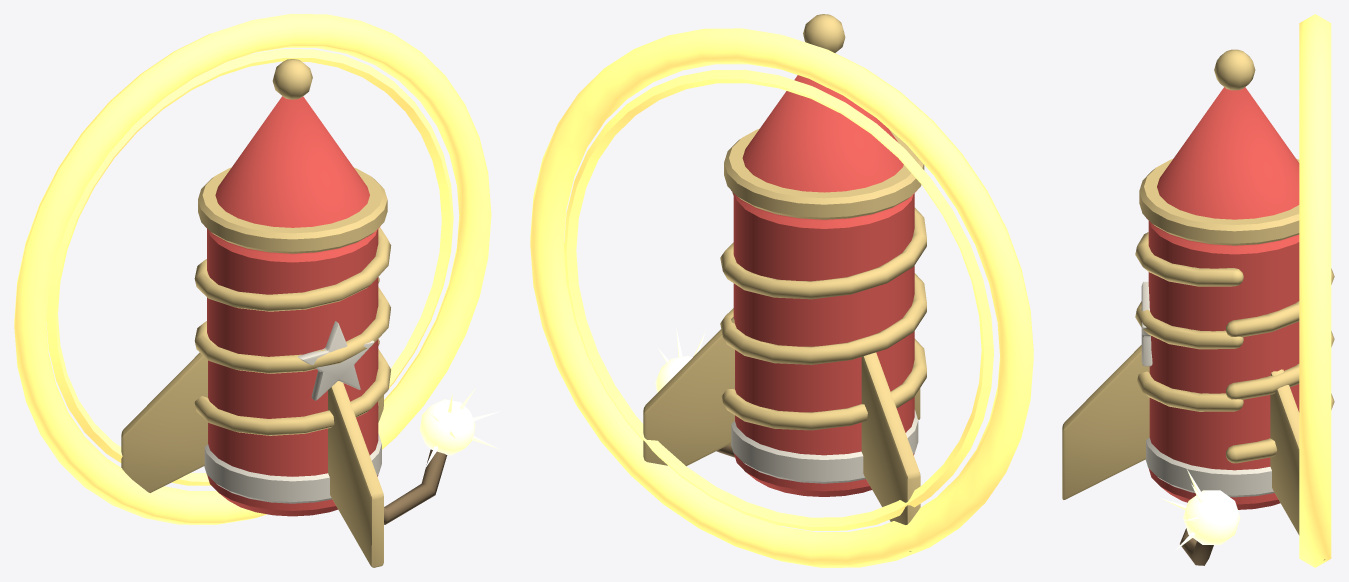
Rendered from item_charge.glb.
3 views of the same model, side by side, from view 1: azimuth 30°, elevation 25°; view 2: azimuth 150°, elevation 25°; view 3: azimuth 270°, elevation 25° (orthographic). The views are drawn at different scales.
Parts seen in each view (by area): view 1: item_charge; view 2: item_charge; view 3: item_charge.
Part boxes in pixels (bbox=[...]): item_charge: bbox=[14, 14, 499, 567]; item_charge: bbox=[530, 14, 1033, 567]; item_charge: bbox=[1062, 14, 1334, 567].
Bounding box in the file's own units: 0.482 × 0.482 × 0.2369.
